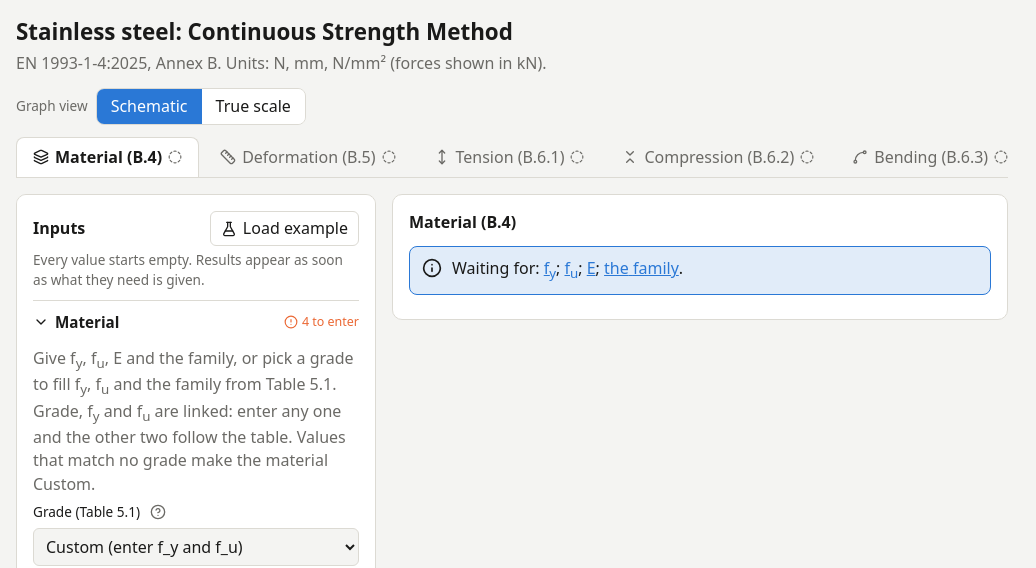
Test: Load example › shows the banner and the list of sources
Click the button "Load example": click(284, 229) [210,211,359,246]
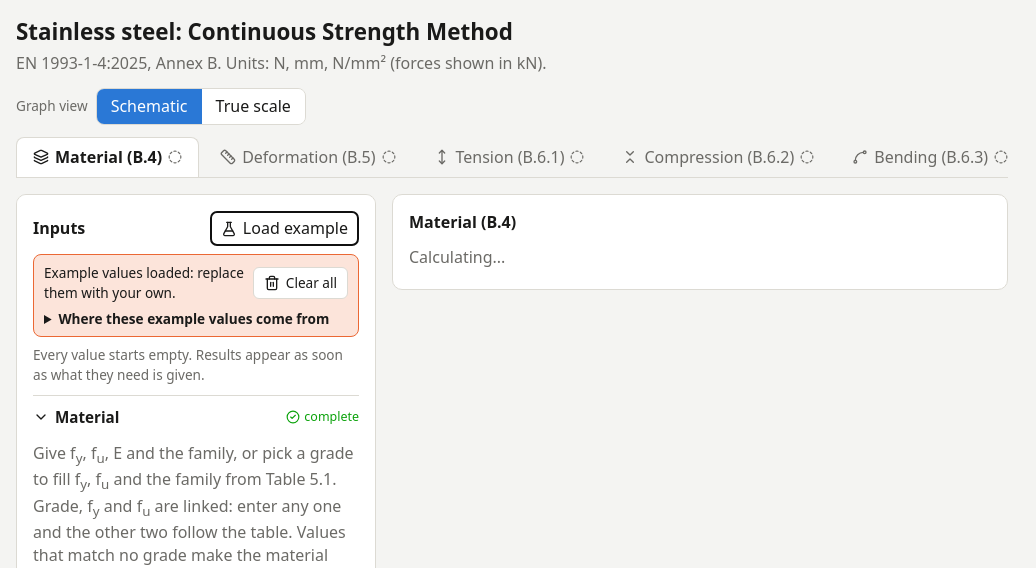
Check: the text "Example values loaded: replace them with your own." is shown, box [44,263,245,303]
Click the heading "Where these example values come from": click(196, 318) [44,309,348,328]
(page scrolled)
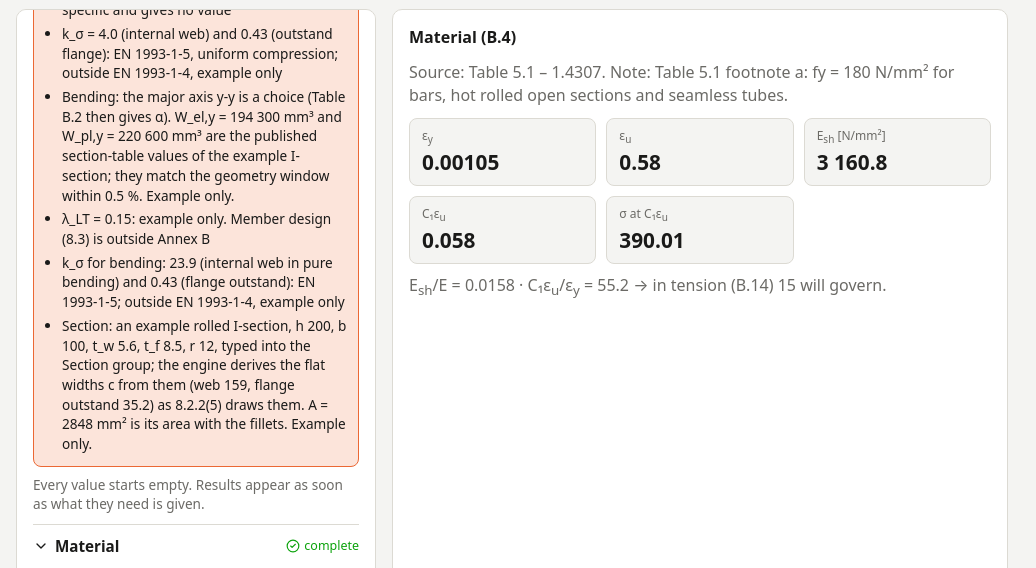
Check: the list item "k_σ = 4.0 (internal web) and 0.43 (outstand flange): EN 1993-1-5, uniform compression; outside EN 1993-1-4, example only" is shown, box [62,24,338,82]
Check: the list item "Bending: the major axis y-y is a choice (Table B.2 then gives α). W_el,y = 194 300 mm³ and W_pl,y = 220 600 mm³ are the " is shown, box [62,87,345,205]
Check: the list item "λ_LT = 0.15: example only. Member design (8.3) is outside Annex B" is shown, box [62,209,348,249]
